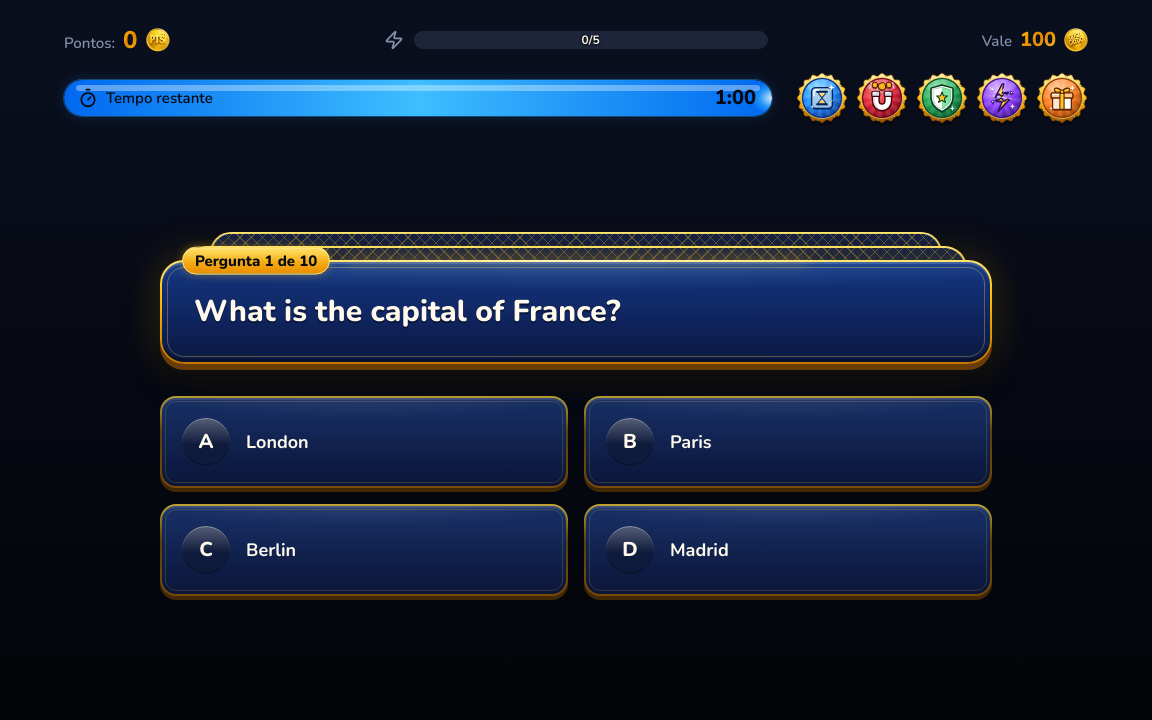
Test: GameScreen › action bar › lists the other players for a disadvantage, and uses it on the one picked
Click the button named "Roubar" at (882, 98), box [856,72,908,124]
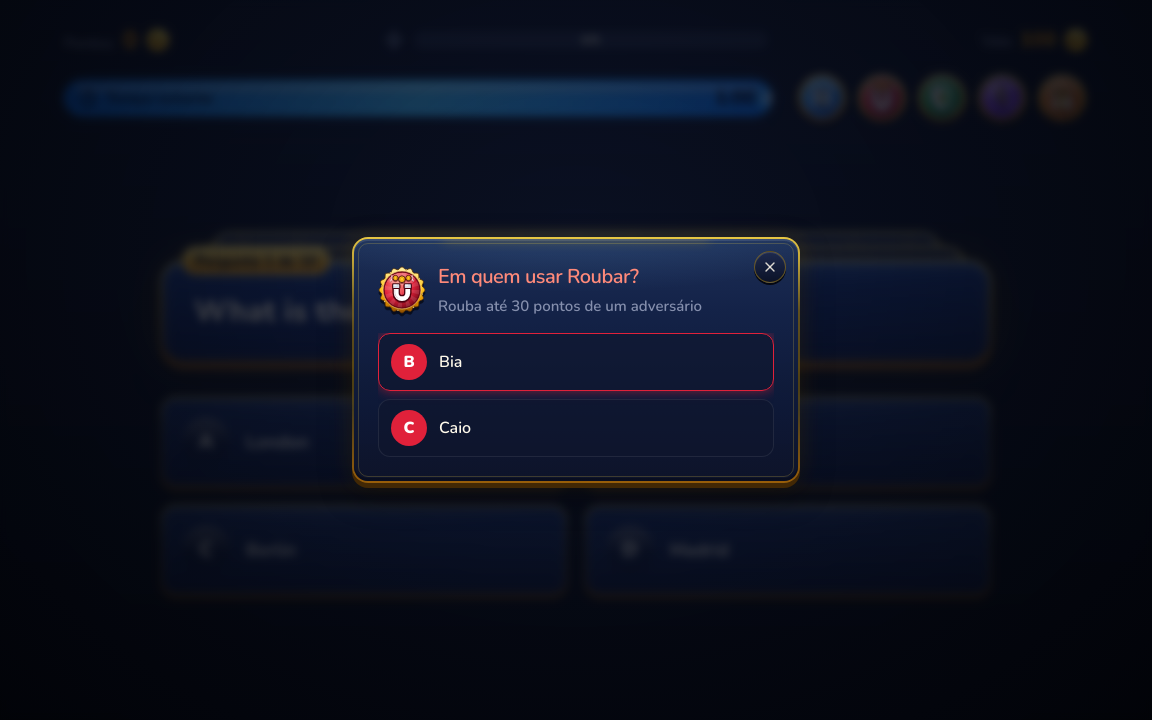
Check: the number of list items is 2
Click the button "B Bia" at (409, 362), box [378,333,774,391]
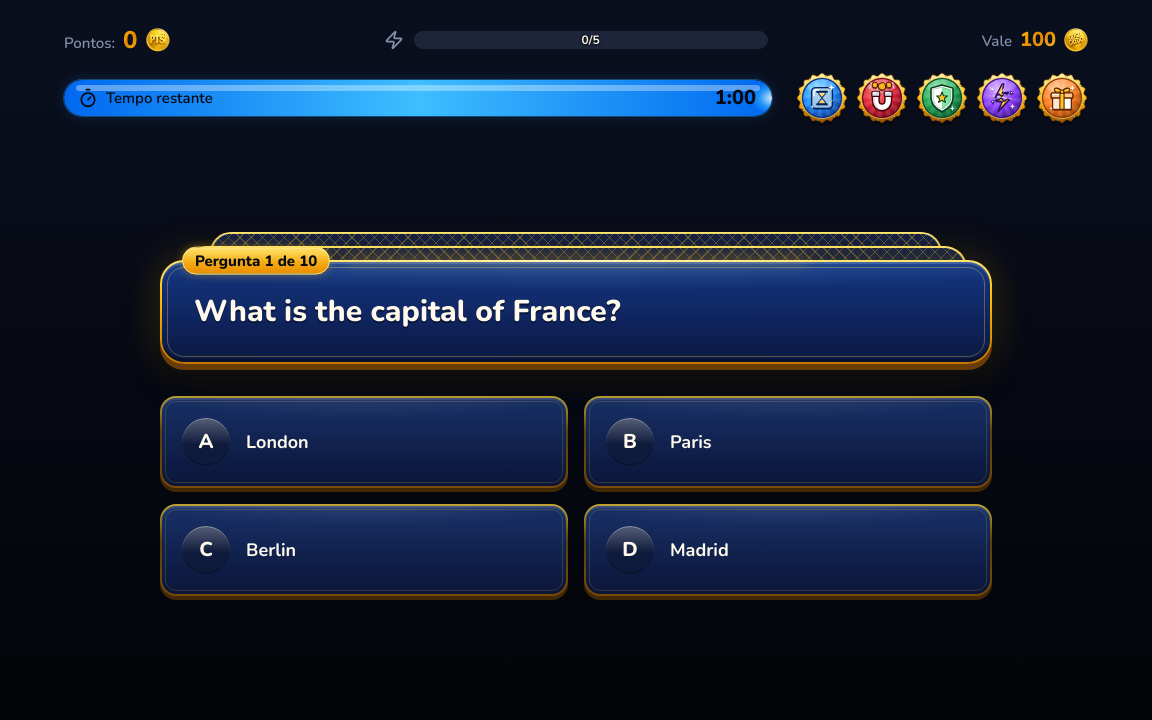
Check: the dialog is gone
